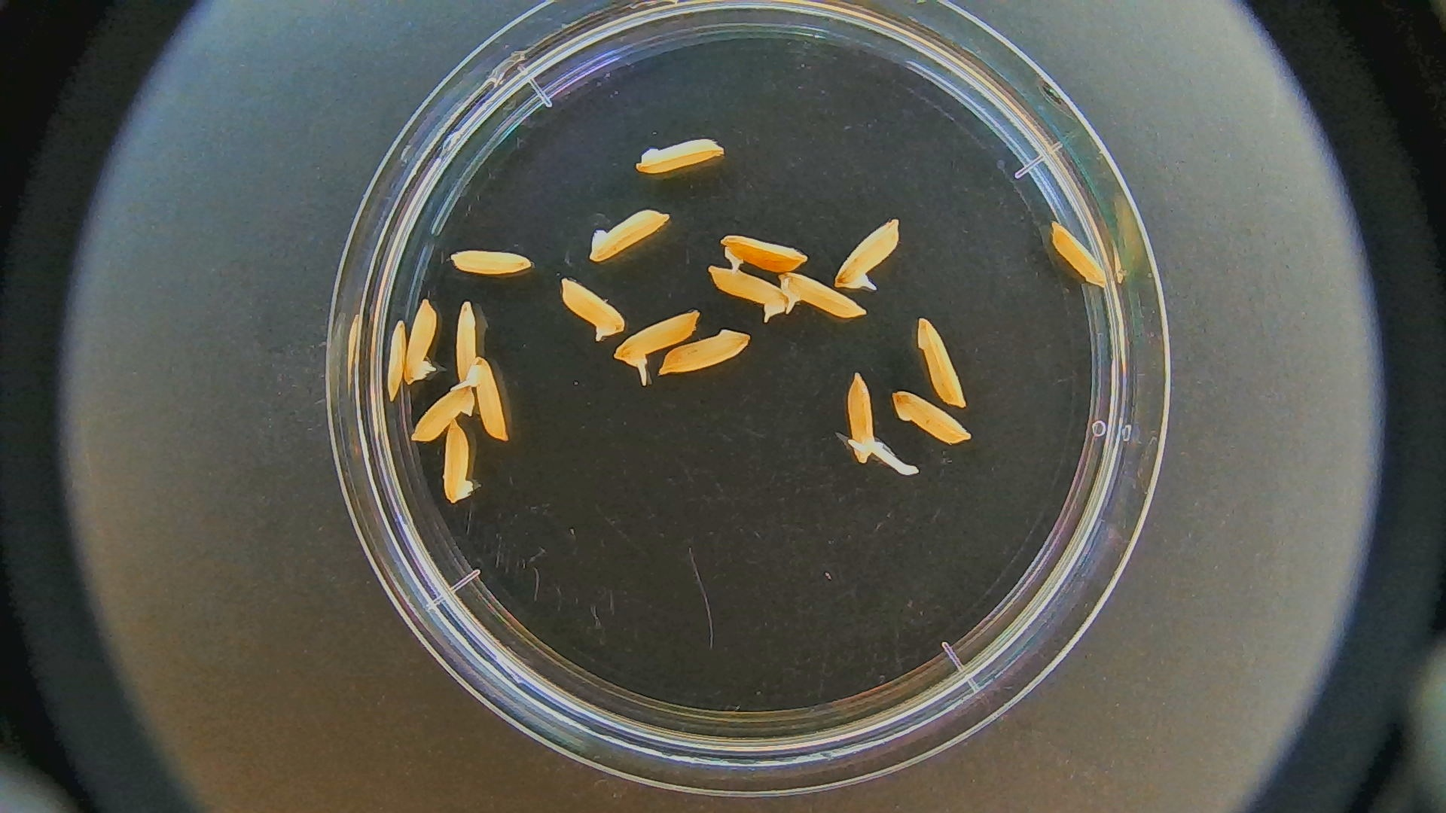no: (585, 209, 679, 273), (554, 276, 624, 346), (410, 381, 480, 446), (659, 330, 751, 376), (895, 388, 970, 443), (921, 317, 966, 408), (437, 419, 479, 513), (448, 243, 537, 287), (1049, 221, 1109, 284), (404, 292, 440, 394), (631, 139, 727, 175), (382, 319, 410, 405), (453, 297, 479, 380)
yes: (618, 305, 697, 367), (835, 218, 900, 291), (784, 272, 870, 320), (708, 263, 787, 315), (468, 361, 510, 443), (721, 232, 804, 273), (845, 368, 880, 464)
